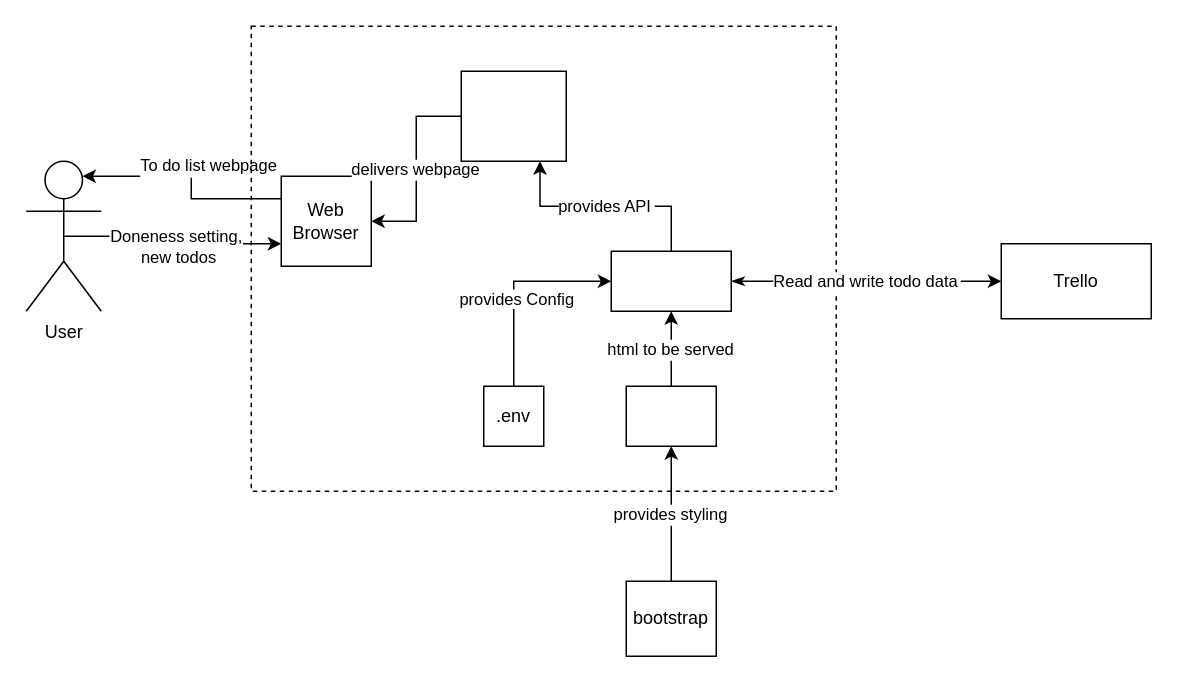
Some shapes in this 1178 by 683 pixel diagram are drawn without their labels. Each missing label, with the centre of its shape:
app: the point at 670,280
Flask webserver: the point at 513,115
templates: the point at 670,415
